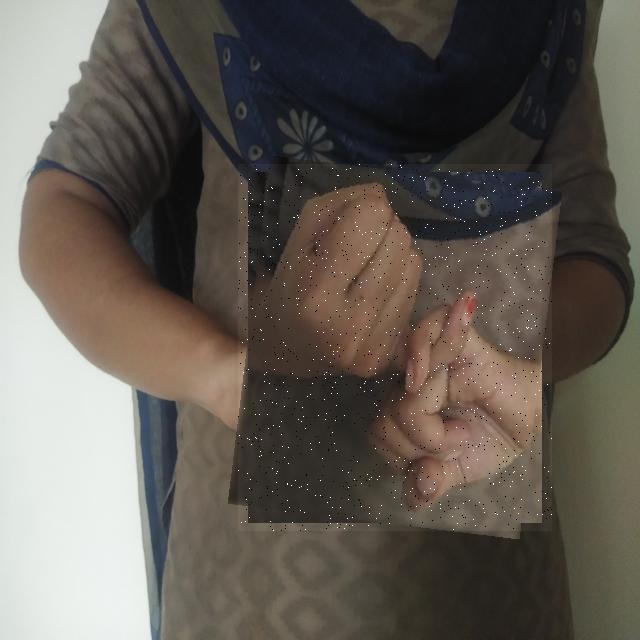S: (238, 164, 552, 531)
